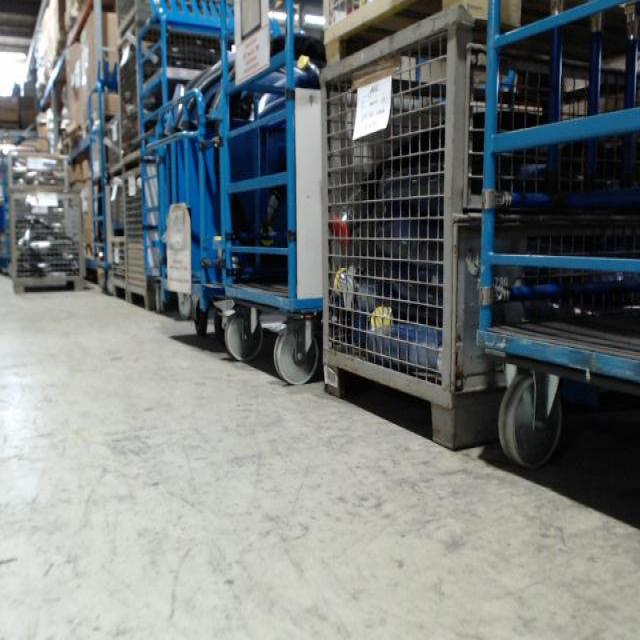stillage: (324, 6, 550, 449), (8, 187, 82, 292), (113, 170, 150, 314), (116, 26, 152, 165), (10, 149, 75, 195), (108, 1, 197, 31)
